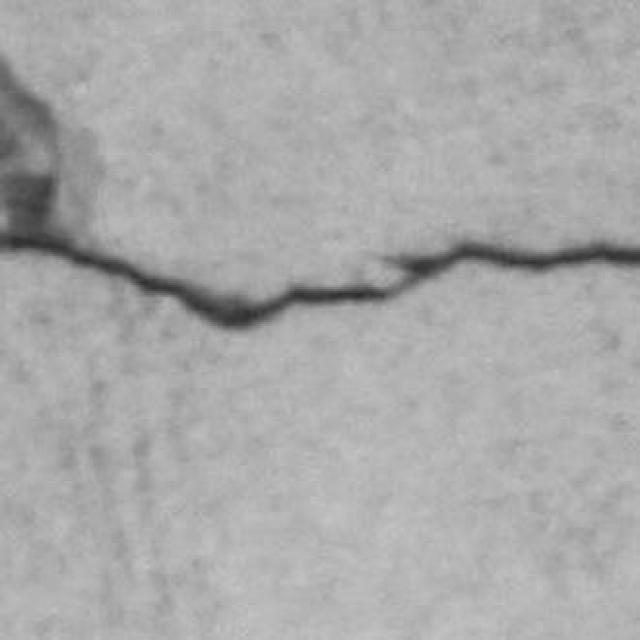crack: (0, 235, 639, 329)
